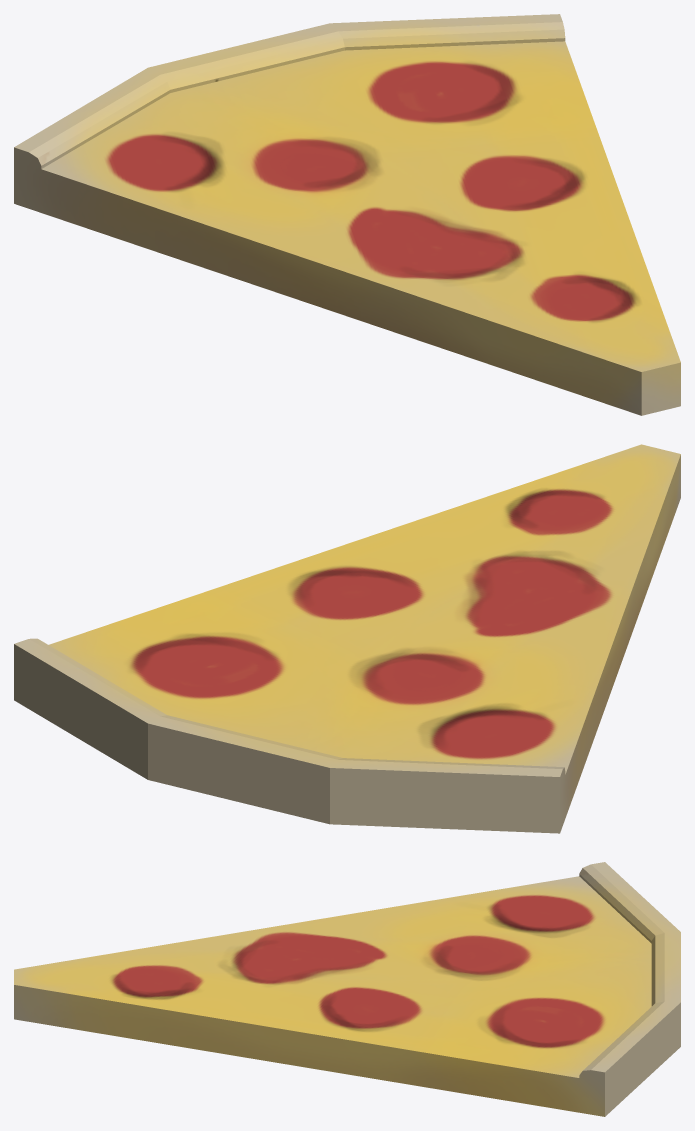
Rendered from Pizza_Small.fbx.
The picture shows the model from 3 angles, top to bottom: view 1: azimuth 30°, elevation 25°; view 2: azimuth 150°, elevation 25°; view 3: azimuth 270°, elevation 25°; orthographic projection. The views are drawn at different scales.
Parts seen in each view (by area): view 1: Cube.005; view 2: Cube.005; view 3: Cube.005.
Part boxes in pixels (x1=…): Cube.005: x1=14, y1=14, x2=680, y2=415; Cube.005: x1=14, y1=444, x2=680, y2=833; Cube.005: x1=14, y1=862, x2=680, y2=1116.
Bounding box in the file's own units: 28.68 × 2.83 × 38.43.
